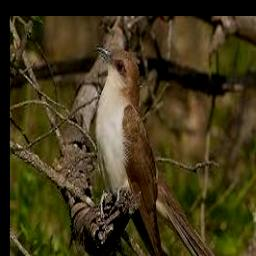Cuckoo: (92, 45, 166, 256)
